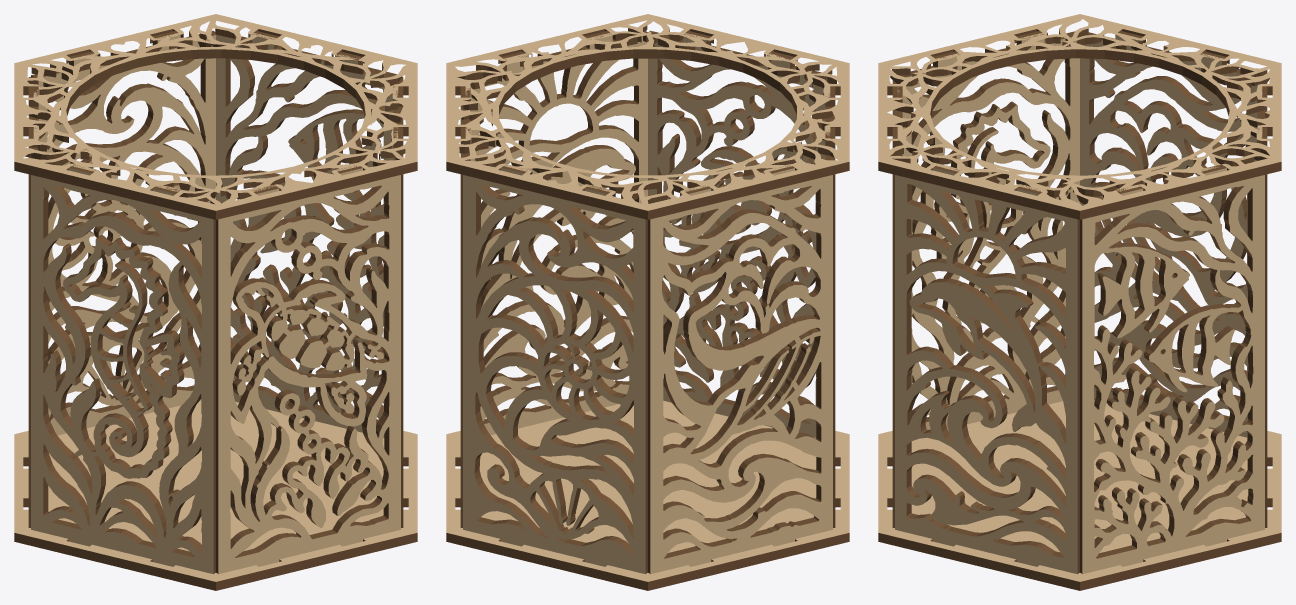
Rendered from lumi-2-oceanske.glb.
3 renders of one model, left to right at view 1: azimuth 30°, elevation 25°; view 2: azimuth 150°, elevation 25°; view 3: azimuth 270°, elevation 25°, orthographic.
Visible parts, largest first — view 1: stena-02, stena-03, vrsek, stena-05, dno, stena-06, stena-01, stena-04; view 2: stena-05, stena-04, vrsek, dno, stena-02, stena-01, stena-03, stena-06; view 3: stena-06, stena-01, vrsek, stena-03, dno, stena-04, stena-02, stena-05.
Part boxes in pixels (x1=…): stena-02: x1=216, y1=165, x2=400, y2=574; stena-03: x1=31, y1=164, x2=215, y2=574; vrsek: x1=14, y1=14, x2=417, y2=219; stena-05: x1=31, y1=30, x2=216, y2=435; dno: x1=14, y1=400, x2=417, y2=590; stena-06: x1=216, y1=31, x2=396, y2=437; stena-01: x1=393, y1=77, x2=403, y2=527; stena-04: x1=28, y1=77, x2=38, y2=527; stena-05: x1=463, y1=165, x2=647, y2=574; stena-04: x1=648, y1=165, x2=832, y2=574; vrsek: x1=446, y1=14, x2=849, y2=219; dno: x1=446, y1=400, x2=849, y2=590; stena-02: x1=648, y1=30, x2=825, y2=437; stena-01: x1=470, y1=31, x2=647, y2=434; stena-03: x1=825, y1=78, x2=835, y2=527; stena-06: x1=460, y1=86, x2=470, y2=527; stena-06: x1=1080, y1=164, x2=1264, y2=574; stena-01: x1=895, y1=165, x2=1079, y2=574; vrsek: x1=878, y1=14, x2=1281, y2=219; stena-03: x1=899, y1=31, x2=1079, y2=429; dno: x1=878, y1=400, x2=1281, y2=590; stena-04: x1=1080, y1=31, x2=1257, y2=437; stena-02: x1=892, y1=80, x2=902, y2=527; stena-05: x1=1257, y1=82, x2=1267, y2=527.
Size of the model in its own units: 0.14 by 0.126 by 0.1212.
